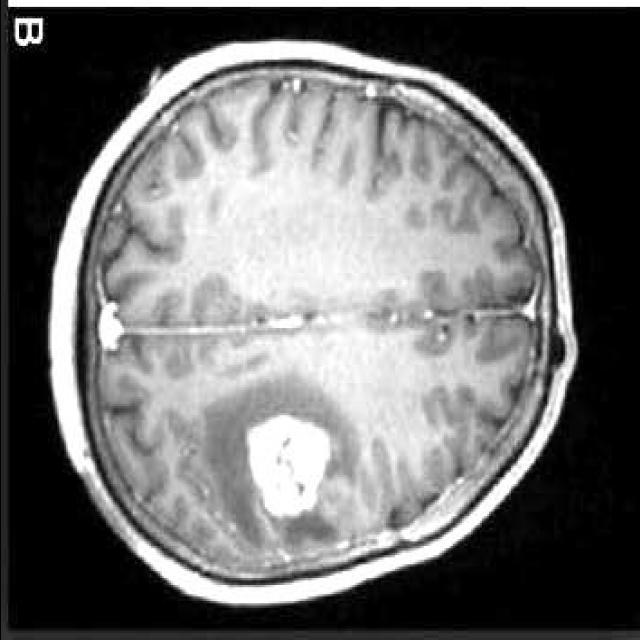tumor: (244, 415, 331, 516)
